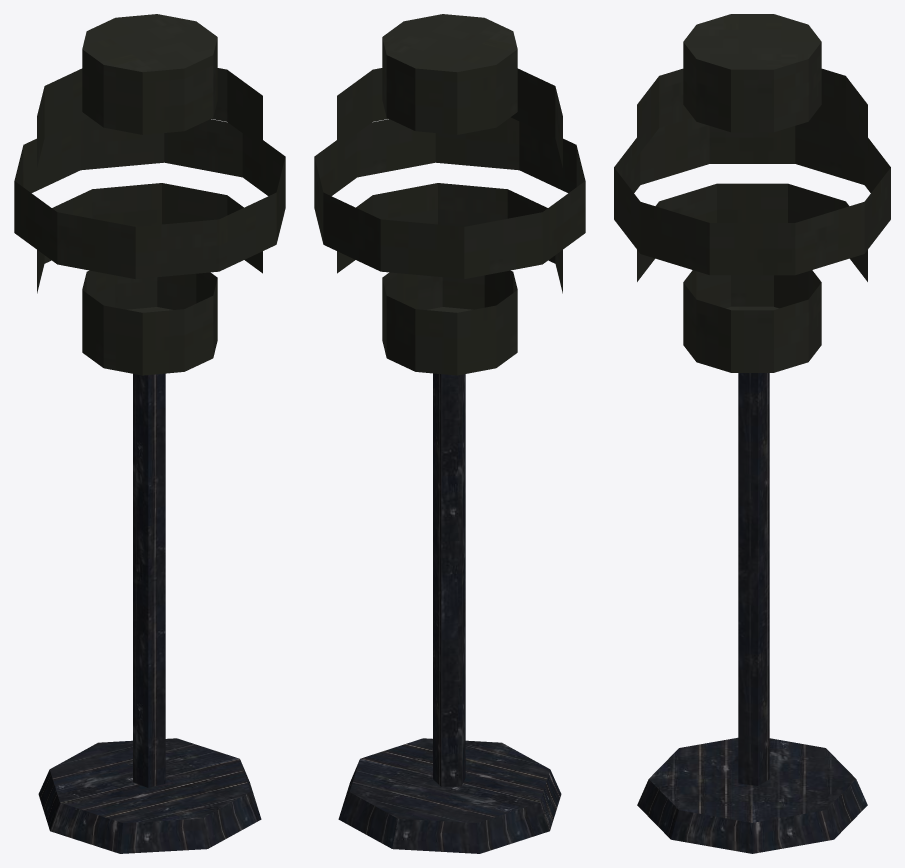
File: globe_stand_01.glb
3 views of the same model, side by side, from view 1: azimuth 30°, elevation 25°; view 2: azimuth 150°, elevation 25°; view 3: azimuth 270°, elevation 25° (orthographic).
Visible parts, largest first — view 1: globe_stand_01; view 2: globe_stand_01; view 3: globe_stand_01.
Boxes of the visible parts, x1=… form: globe_stand_01: x1=14, y1=14, x2=285, y2=853; globe_stand_01: x1=314, y1=14, x2=585, y2=853; globe_stand_01: x1=614, y1=14, x2=890, y2=853.
Size of the model in its own units: 0.4565 by 1.46 by 0.48.
Materials: 2 (2 with a texture image).
